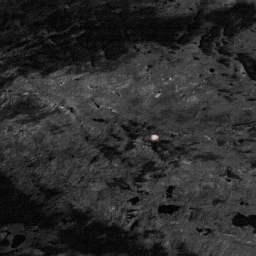Target: (151, 132, 159, 143)
